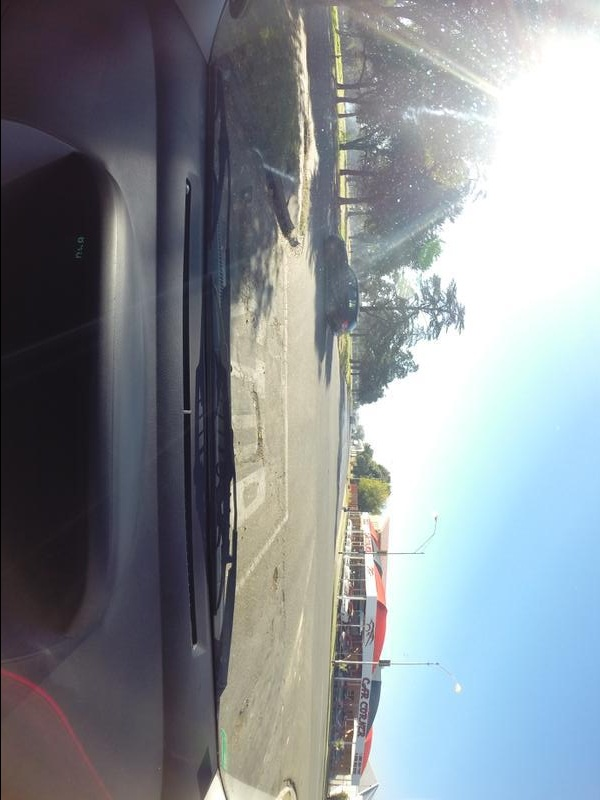pothole: (232, 198, 255, 338), (247, 388, 270, 476), (228, 699, 256, 740), (269, 252, 286, 299), (266, 561, 289, 593), (272, 318, 286, 362), (269, 596, 292, 610)
